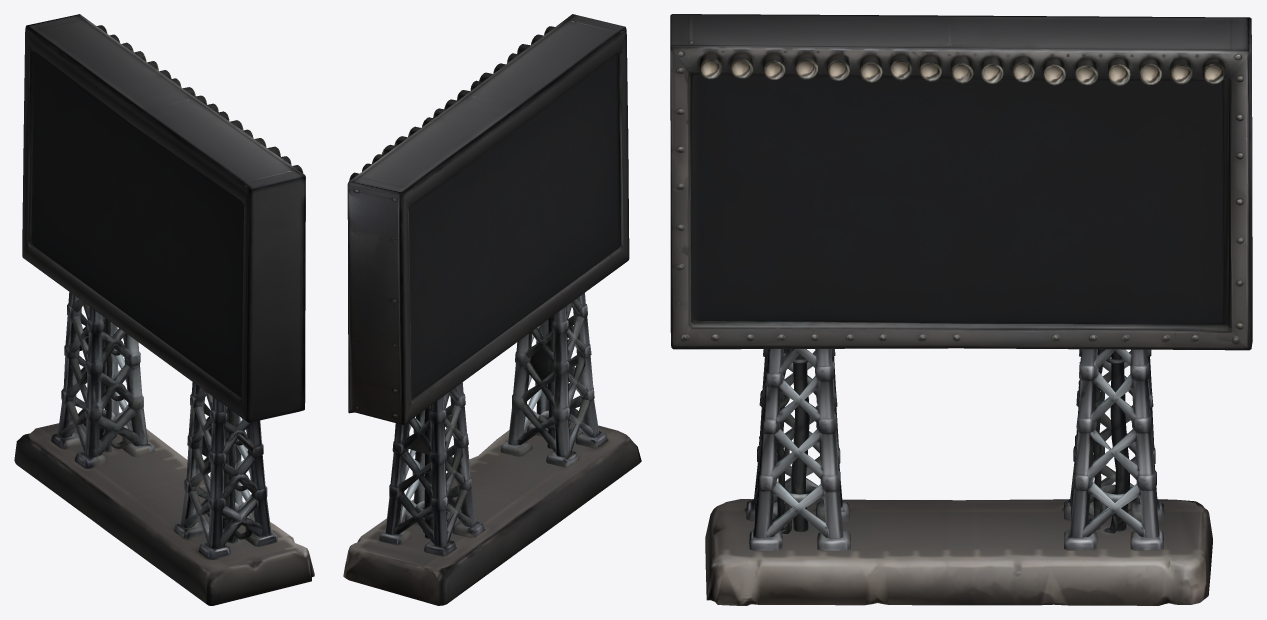
The picture shows the model from 3 angles, left to right: view 1: azimuth 30°, elevation 25°; view 2: azimuth 150°, elevation 25°; view 3: azimuth 270°, elevation 25°; orthographic projection. The views are drawn at different scales.
Parts seen in each view (by area): view 1: tripo_node_41cbcab3-ab21-415f-b134-59d27e991f25; view 2: tripo_node_41cbcab3-ab21-415f-b134-59d27e991f25; view 3: tripo_node_41cbcab3-ab21-415f-b134-59d27e991f25.
Boxes of the visible parts, bbox=[...] form: tripo_node_41cbcab3-ab21-415f-b134-59d27e991f25: bbox=[14, 14, 314, 605]; tripo_node_41cbcab3-ab21-415f-b134-59d27e991f25: bbox=[343, 14, 641, 605]; tripo_node_41cbcab3-ab21-415f-b134-59d27e991f25: bbox=[670, 14, 1252, 605].
Bounding box in the file's own units: 0.2739 × 0.9995 × 0.9712.
Materials: 1 (1 with a texture image).
